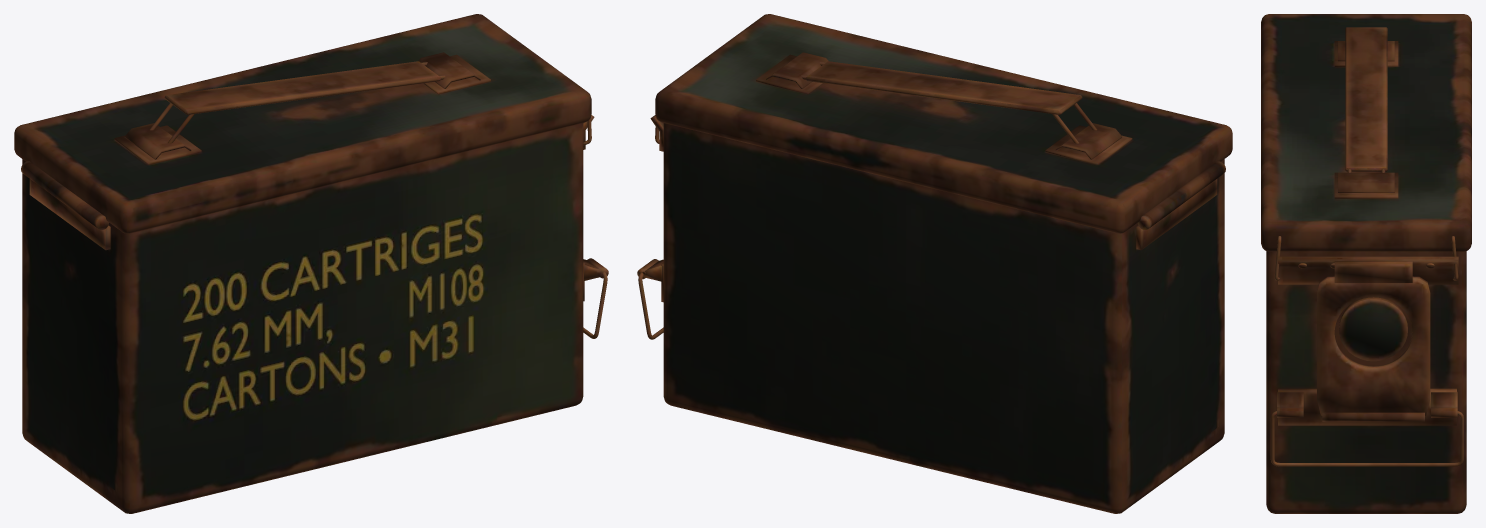
File: ammo-box_final.glb
3 renders of one model, left to right at view 1: azimuth 30°, elevation 25°; view 2: azimuth 150°, elevation 25°; view 3: azimuth 270°, elevation 25°, orthographic. The views are drawn at different scales.
Parts seen in each view (by area): view 1: SM_AmmoBox_Body, SM_AmmoBox_Lid, SM_AmmoBox_Handle, SM_AmmoBox_HandleBrackets, SM_AmmoBox_LidHinge; view 2: SM_AmmoBox_Body, SM_AmmoBox_Lid, SM_AmmoBox_Handle, SM_AmmoBox_HandleBrackets, SM_AmmoBox_LidHinge; view 3: SM_AmmoBox_Lid, SM_AmmoBox_Body, SM_AmmoBox_LatchPlate, SM_AmmoBox_Handle, SM_AmmoBox_LatchHinge, SM_AmmoBox_LatchBoss, SM_AmmoBox_LatchStrip, SM_AmmoBox_HandleBrackets, SM_AmmoBox_LatchBail.
Part boxes in pixels (x1,y1,x2,y2): SM_AmmoBox_Body: (22,123,583,513); SM_AmmoBox_Lid: (14,14,591,233); SM_AmmoBox_Handle: (164,61,440,114); SM_AmmoBox_HandleBrackets: (114,52,490,164); SM_AmmoBox_LidHinge: (21,161,110,250); SM_AmmoBox_Body: (663,123,1224,513); SM_AmmoBox_Lid: (655,14,1232,233); SM_AmmoBox_Handle: (805,61,1082,114); SM_AmmoBox_HandleBrackets: (756,52,1132,164); SM_AmmoBox_LidHinge: (1136,161,1225,250); SM_AmmoBox_Lid: (1261,14,1471,251); SM_AmmoBox_Body: (1266,251,1466,513); SM_AmmoBox_LatchPlate: (1317,261,1430,415); SM_AmmoBox_Handle: (1345,27,1387,171); SM_AmmoBox_LatchHinge: (1277,388,1457,425); SM_AmmoBox_LatchBoss: (1339,297,1407,361); SM_AmmoBox_LatchStrip: (1278,256,1458,284); SM_AmmoBox_HandleBrackets: (1334,41,1398,198); SM_AmmoBox_LatchBail: (1270,411,1463,466).
Bounding box in the file's own units: 0.3051 × 0.204 × 0.119.
Materials: 1 (1 with a texture image).
